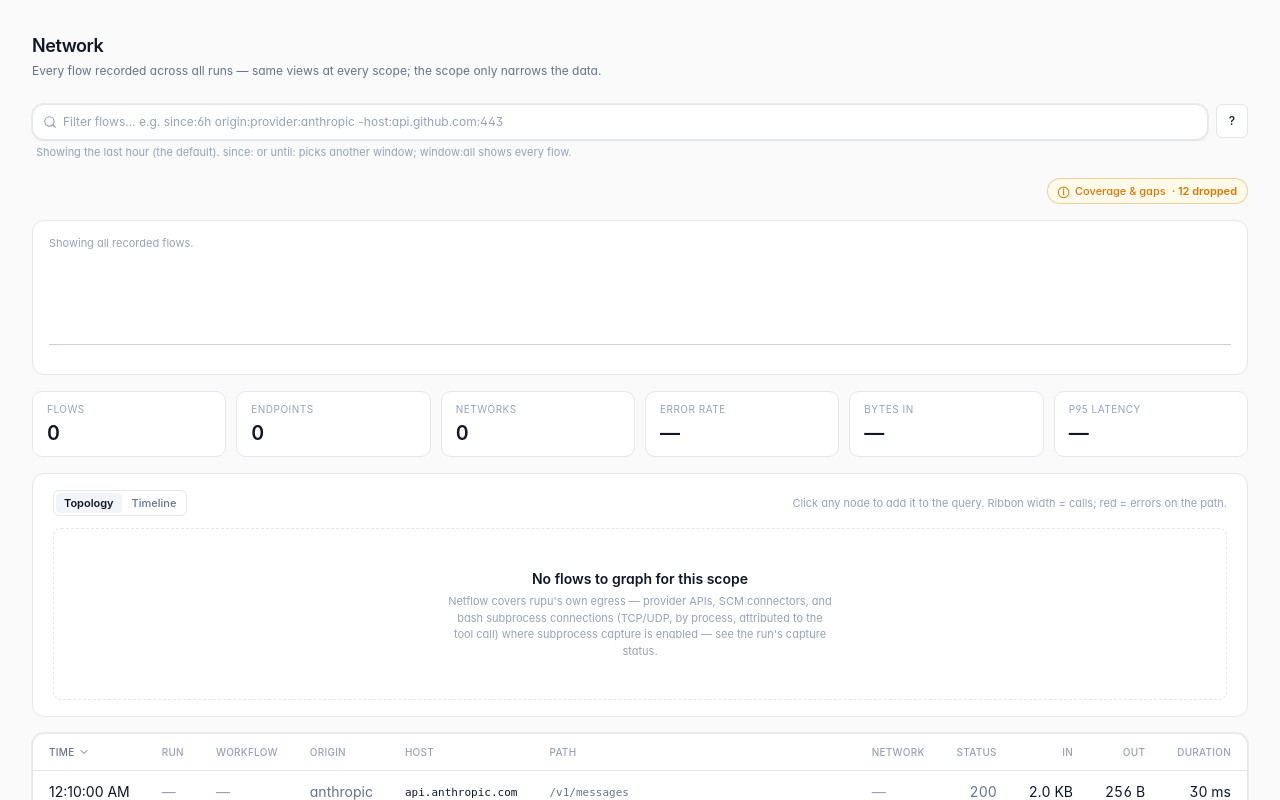
Test: Netflow global page › states the dropped accounting in the popover when loss occurred
Check: the text "api.anthropic.com" is shown, box 405,786 -> 518,799
Click the button "ⓘ Coverage & gaps · 12 dropped" at (1147, 191), box 1047,178 -> 1248,204
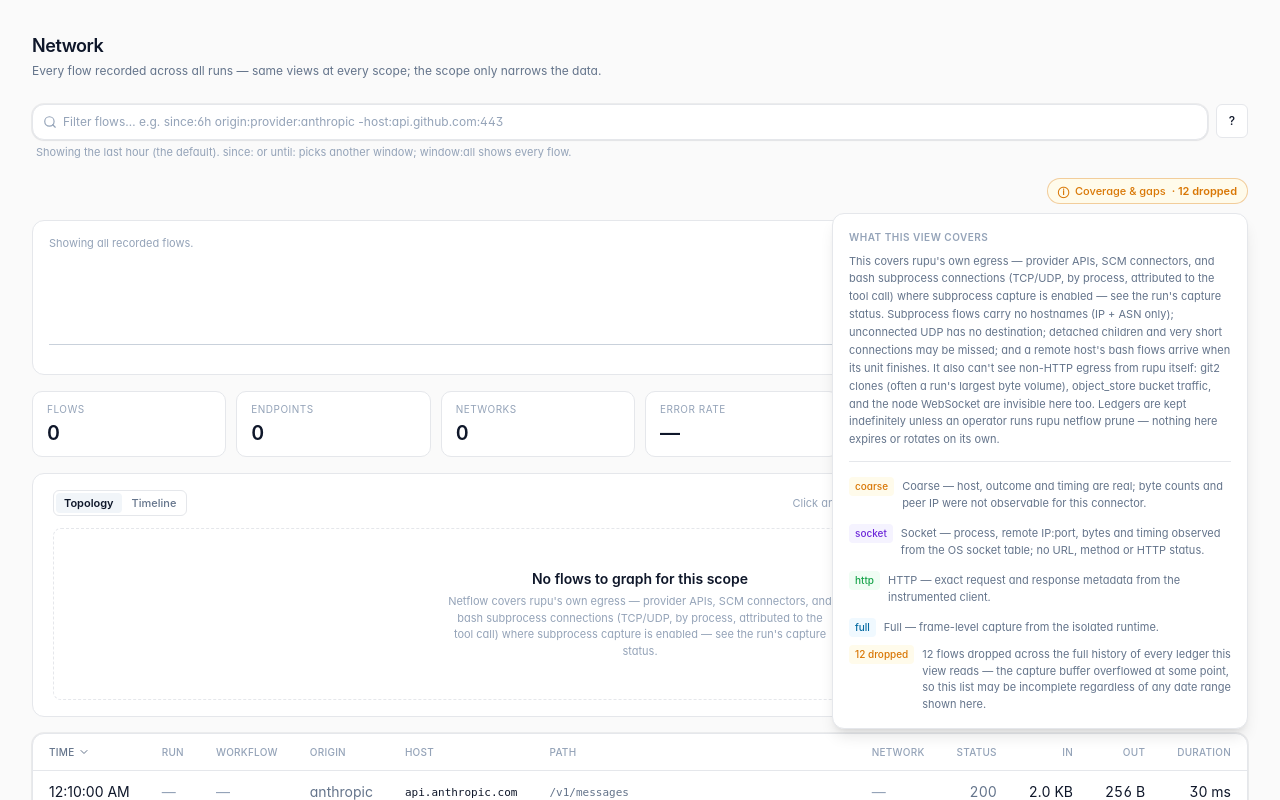
Check: the text "12 flows dropped" is shown, box 922,647 -> 1231,711
